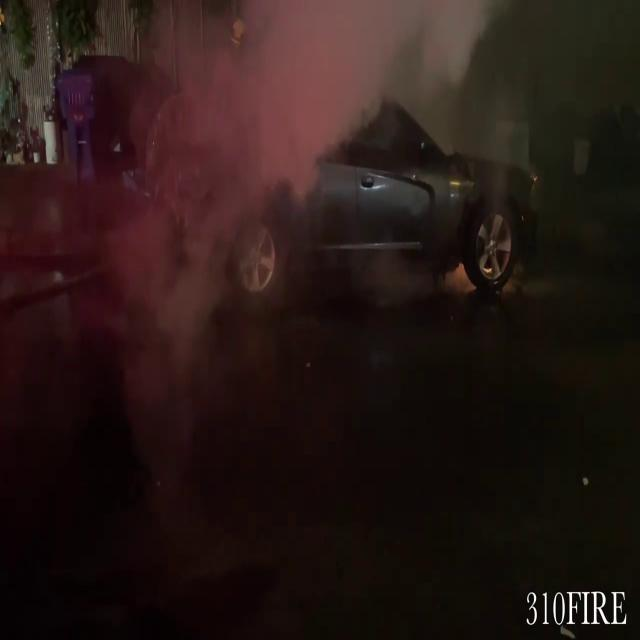Smoke: (120, 1, 356, 372)
